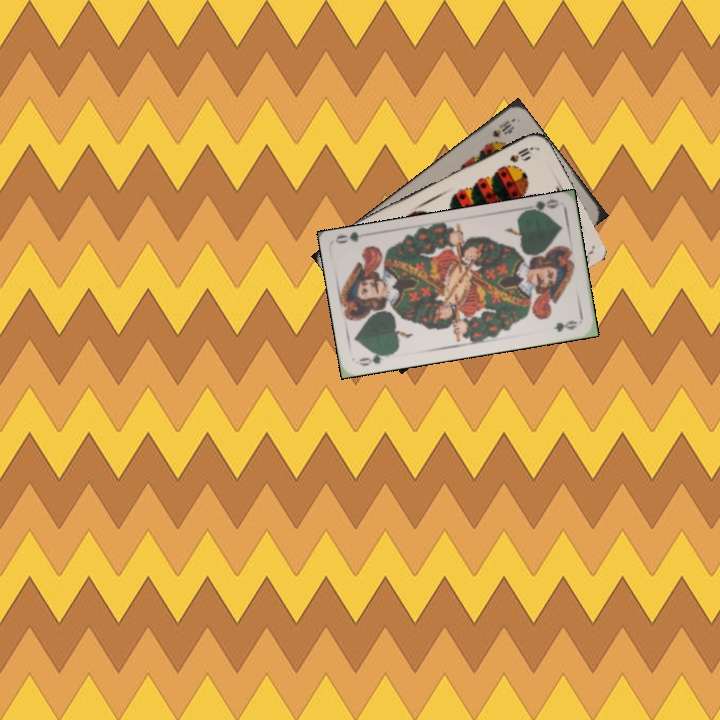GO: (520, 196, 560, 217), (355, 348, 394, 369)
S10: (488, 116, 516, 140), (506, 143, 536, 165)
